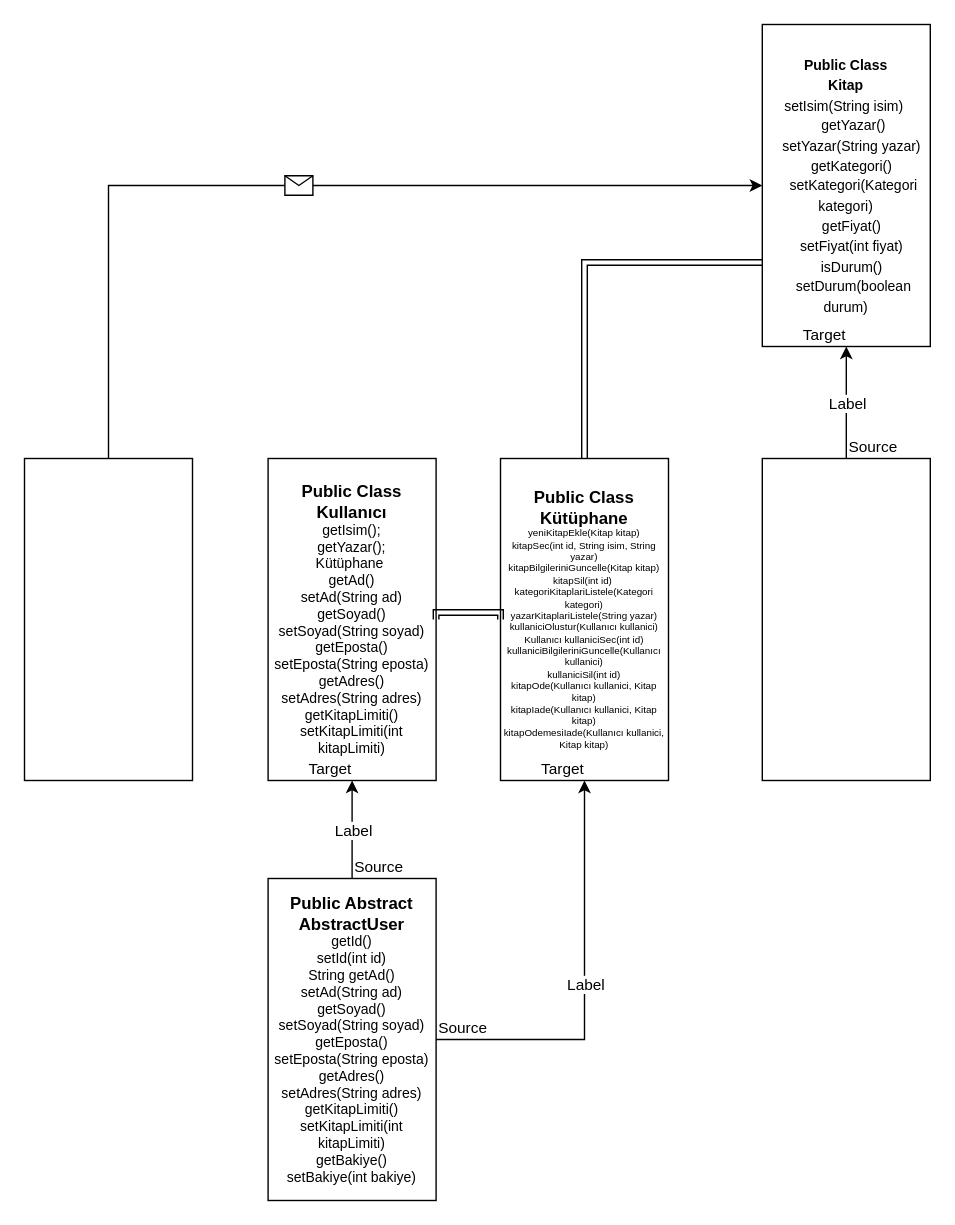
The diagram is 955 pixels wide and 1225 high, and some of its shapes have lost their labels. The shapes that lost their labels are listed below. From the top down, each one's centre as x and y in pixels, then its label:
pixel 107 618: Public Enum Kategori ROMANTİK FANTASTİK TARİH BİLGİ YAŞAM ÇOCUK
pixel 845 618: Public Interface Yayın getIsim(); getYazar();
